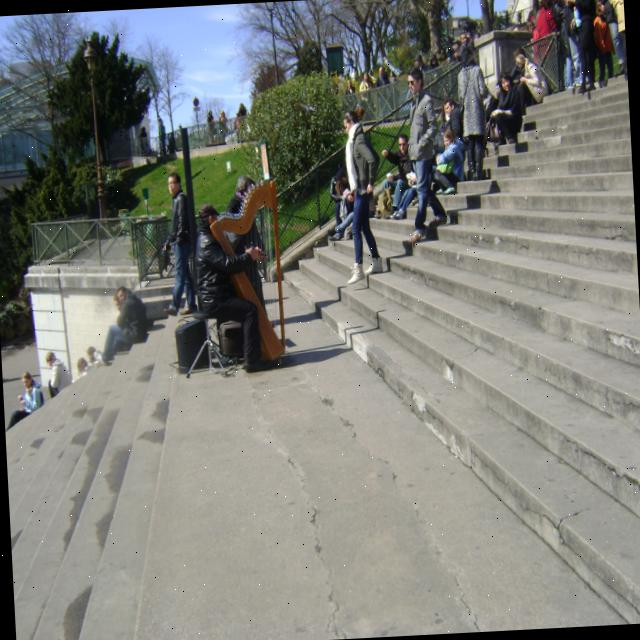harp: (206, 177, 291, 372)
